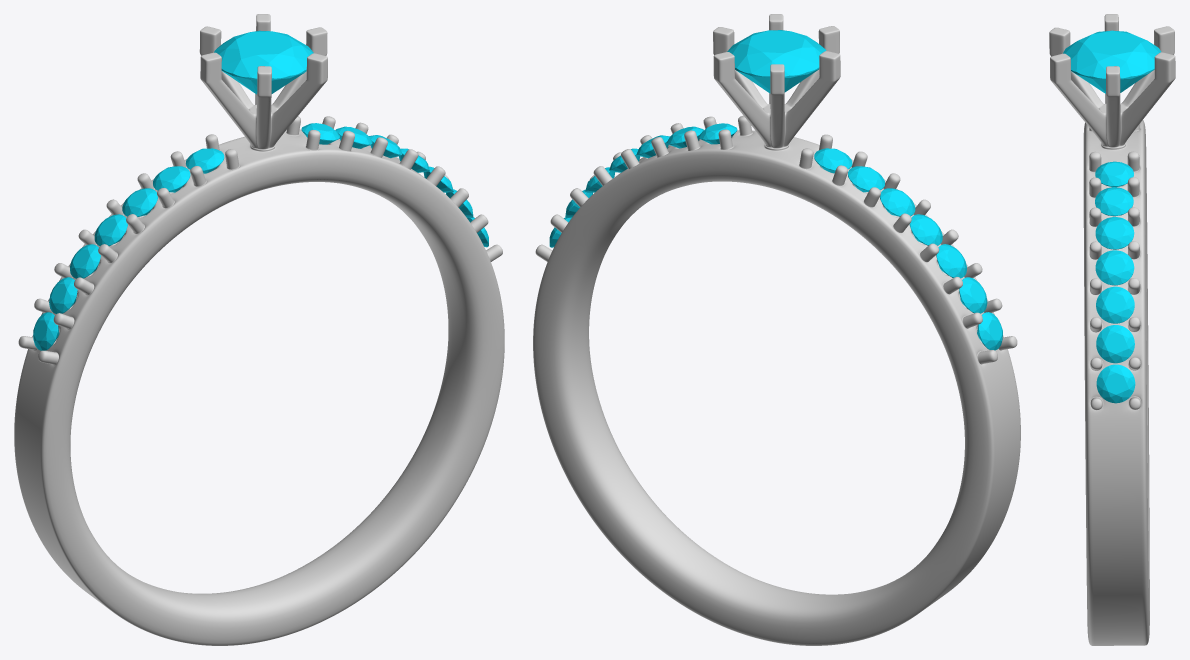
Rendered from clara-pucci-1-cttw-simulated-turquoise.glb.
3 renders of one model, left to right at view 1: azimuth 30°, elevation 25°; view 2: azimuth 150°, elevation 25°; view 3: azimuth 270°, elevation 25°, orthographic.
Visible parts, largest first — view 1: the_crowned_ring; view 2: the_crowned_ring; view 3: the_crowned_ring.
Part boxes in pixels (x1,y1,x2,y2): the_crowned_ring: (14,14,504,645); the_crowned_ring: (533,14,1020,645); the_crowned_ring: (1049,14,1175,645).
Size of the model in its own units: 0.00567 by 0.00688 by 0.00136.
